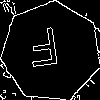F: (26, 27, 62, 77)
